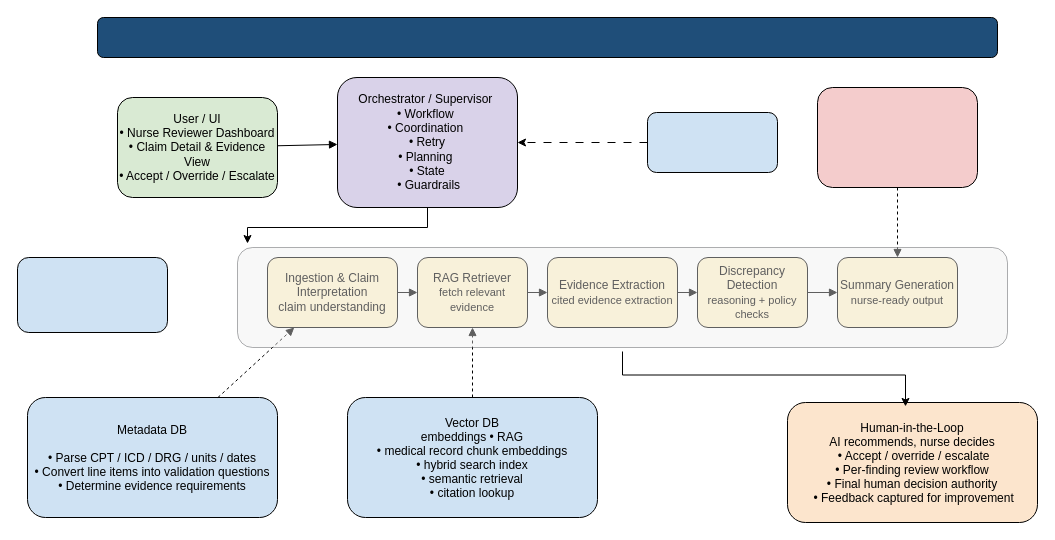
The diagram is 1055 pixels wide and 540 high, and some of its shapes have lost their labels. The shapes that lost their labels are listed below. From the top down, each one's centre as x and y in pixels, then its label:
At (547,37): "Medical AI Reviewer - Multi-Agent RAG Architecture".
At (712,142): "Observability".
At (897,137): "OpenAI LLM • reasoning • extraction • summarization • discrepancy explanation".
At (92,294): "External Data docs • claims • policy rules".
